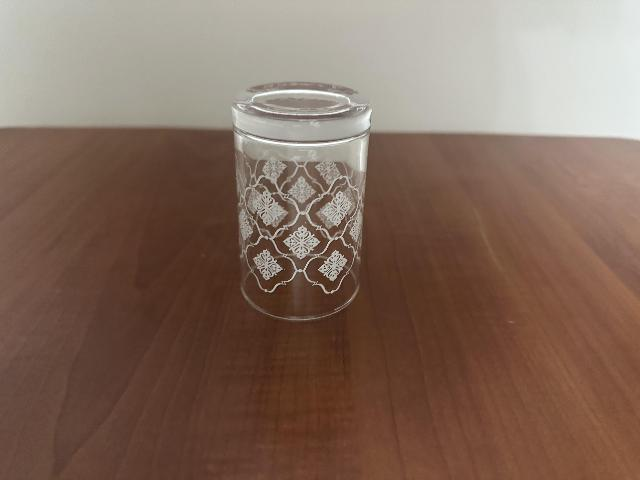Cam: (226, 79, 374, 323)
